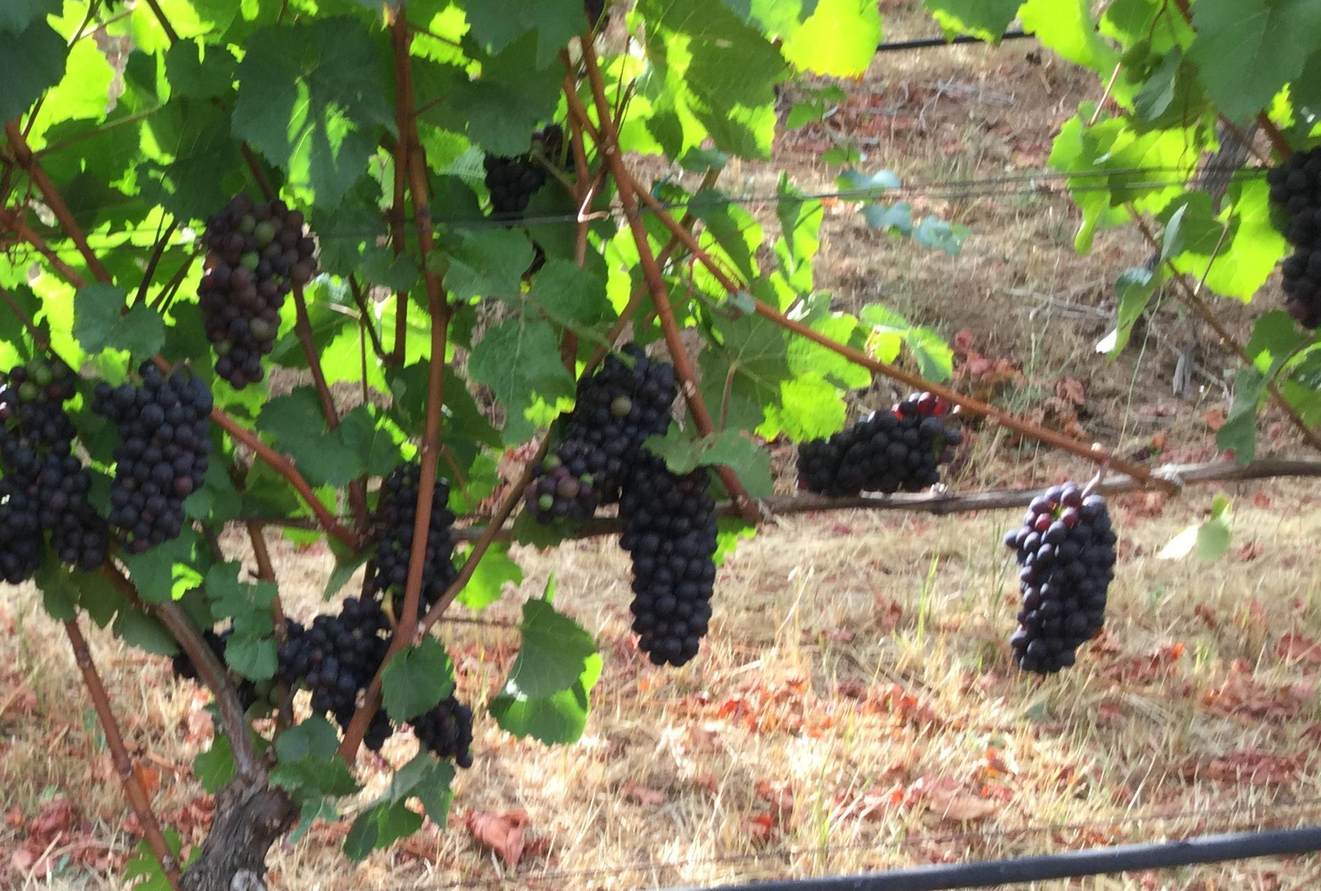Grape Ripe: (515, 328, 718, 526), (186, 178, 321, 404), (282, 587, 466, 739), (612, 453, 738, 674), (786, 376, 980, 518), (992, 463, 1116, 684), (0, 362, 101, 595), (103, 362, 218, 540), (369, 456, 490, 607)
